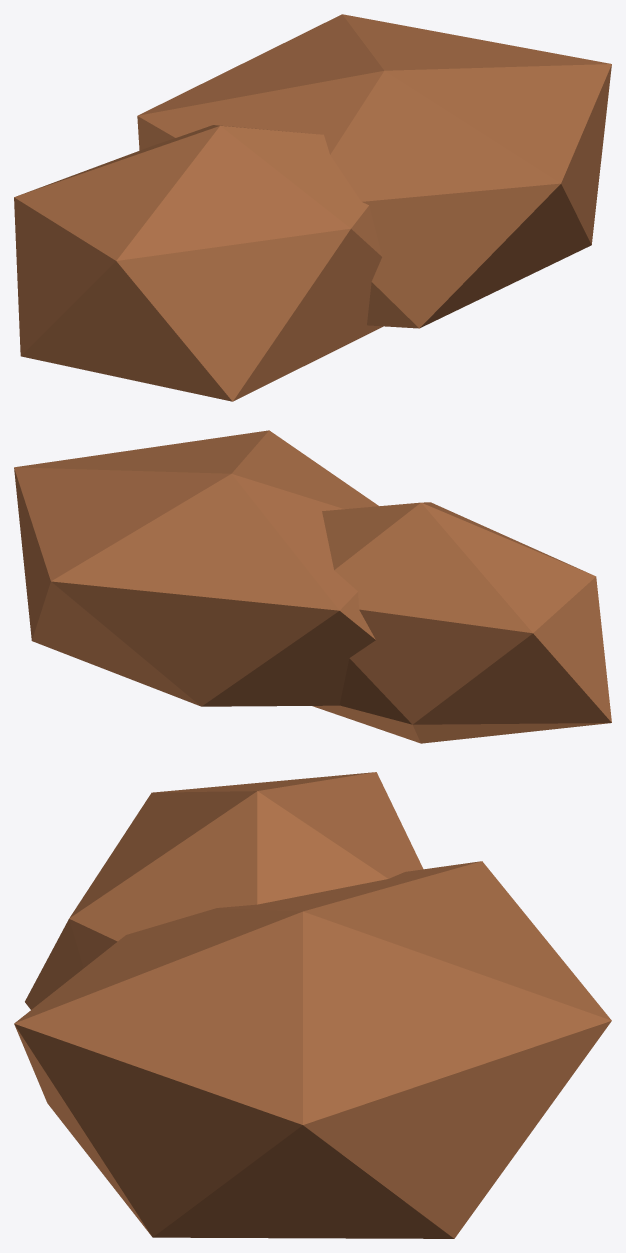
File: Canyon_Rock2.fbx
3 renders of one model, top to bottom at view 1: azimuth 30°, elevation 25°; view 2: azimuth 150°, elevation 25°; view 3: azimuth 270°, elevation 25°, orthographic. The views are drawn at different scales.
Parts seen in each view (by area): view 1: Canyon_Rock2; view 2: Canyon_Rock2; view 3: Canyon_Rock2.
Boxes of the visible parts, x1,y1,x2,y2 form: Canyon_Rock2: (14,14,611,401); Canyon_Rock2: (14,430,611,743); Canyon_Rock2: (14,772,611,1238).
Size of the model in its own units: 3.59 by 1.42 by 2.29.
